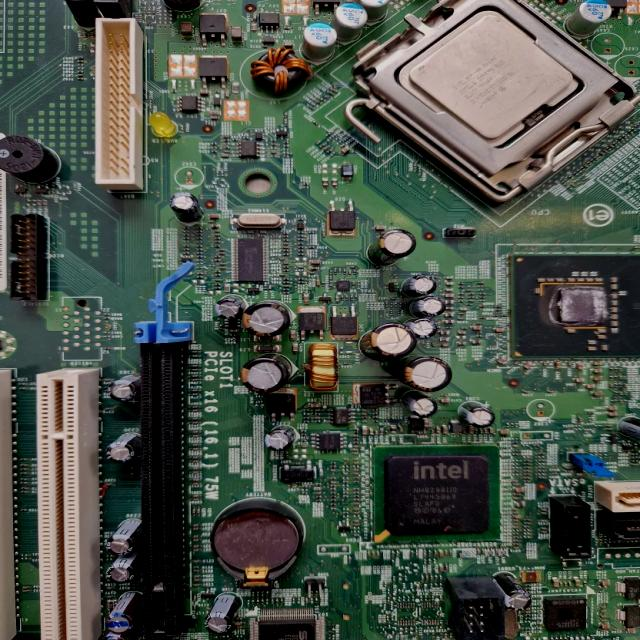A: (252, 48, 312, 96), (304, 344, 339, 389)
C: (360, 323, 414, 360), (398, 356, 452, 392), (240, 354, 290, 392), (243, 300, 289, 338), (367, 230, 415, 265), (106, 592, 142, 634), (492, 575, 531, 611), (204, 594, 238, 632), (107, 519, 141, 555), (105, 433, 140, 463), (170, 192, 202, 222), (459, 401, 493, 428), (402, 391, 436, 417), (106, 556, 140, 582), (264, 426, 296, 452), (109, 374, 139, 400), (403, 275, 437, 297), (411, 298, 445, 318), (215, 296, 244, 319), (404, 318, 436, 338), (99, 633, 133, 640)
